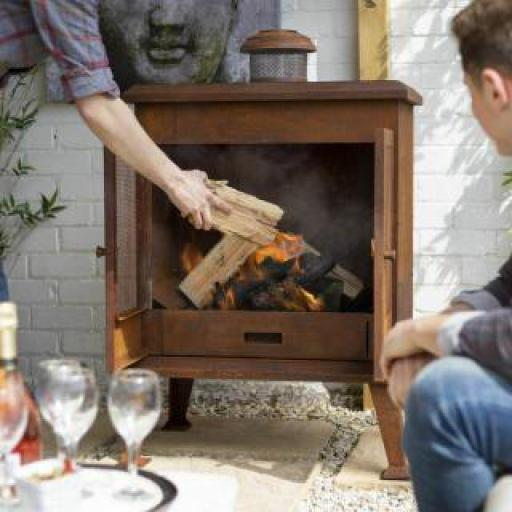smoke: (174, 212, 337, 318)
